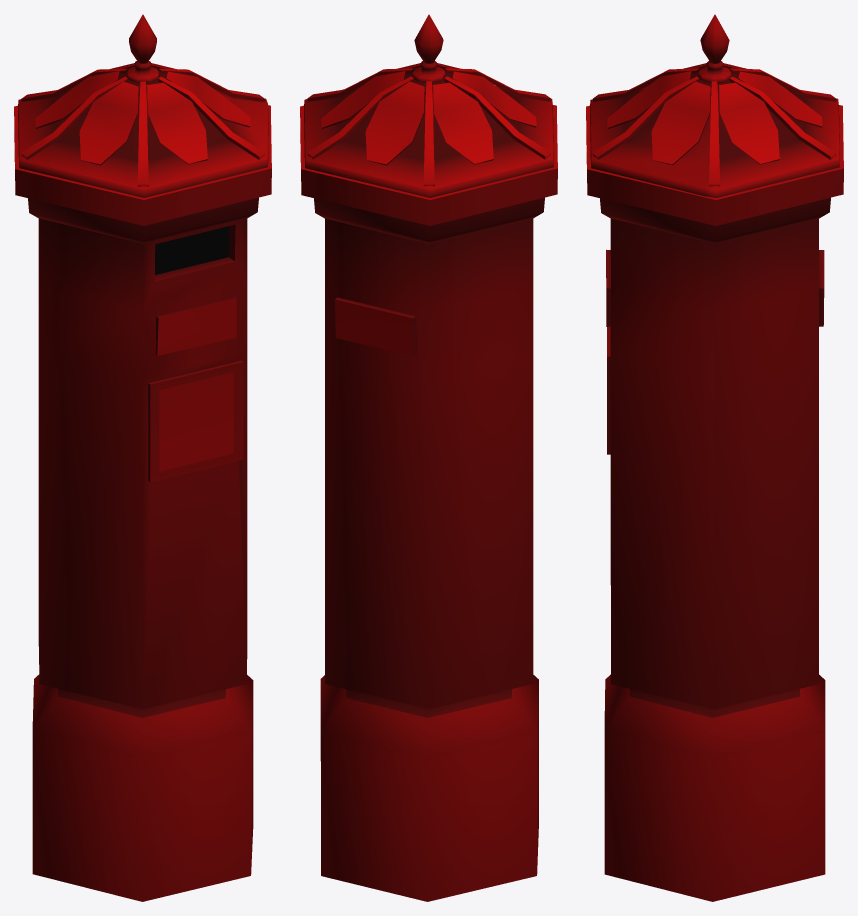
The model's file is Letterbox.glb.
3 views of the same model, side by side, from view 1: azimuth 30°, elevation 25°; view 2: azimuth 150°, elevation 25°; view 3: azimuth 270°, elevation 25° (orthographic).
Visible parts, largest first — view 1: Letterbox; view 2: Letterbox; view 3: Letterbox.
Part boxes in pixels (x1,y1,x2,y2): Letterbox: (14, 14, 271, 901); Letterbox: (300, 14, 557, 901); Letterbox: (586, 14, 843, 901).
Size of the model in its own units: 2.74 by 8.51 by 2.38.
